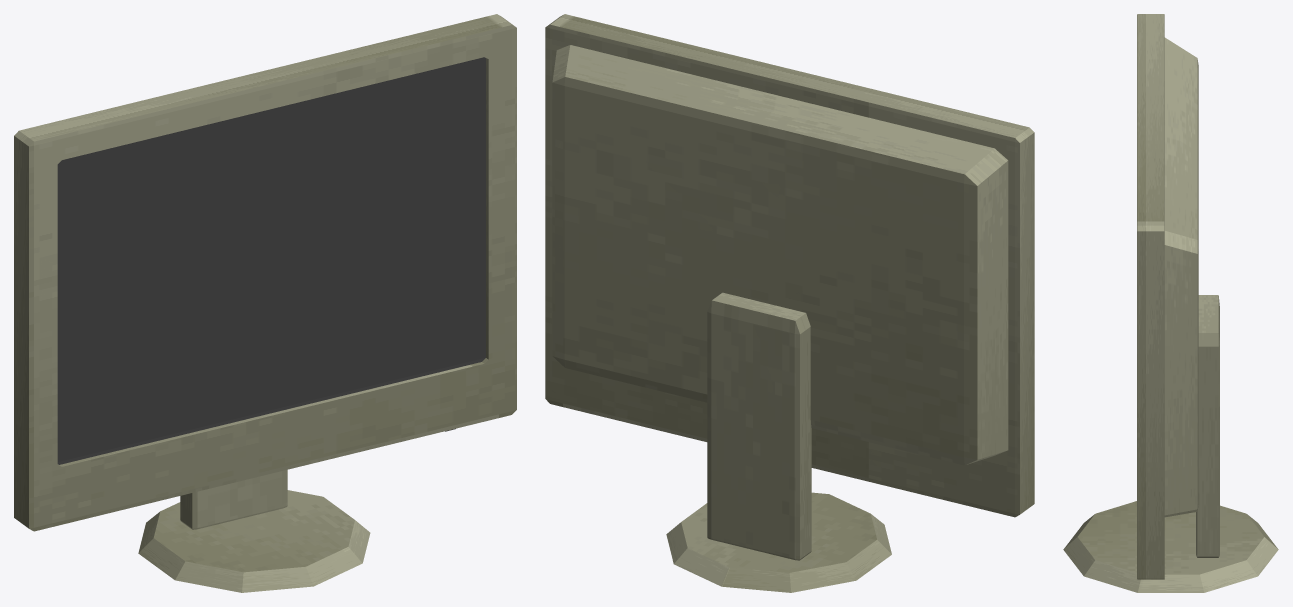
Rendered from Монитор.fbx.
The picture shows the model from 3 angles, left to right: view 1: azimuth 30°, elevation 25°; view 2: azimuth 150°, elevation 25°; view 3: azimuth 270°, elevation 25°; orthographic projection. The views are drawn at different scales.
Visible parts, largest first — view 1: Cube.001; view 2: Cube.001; view 3: Cube.001.
Boxes of the visible parts, x1=… form: Cube.001: x1=14, y1=14, x2=516, y2=592; Cube.001: x1=545, y1=14, x2=1034, y2=592; Cube.001: x1=1063, y1=14, x2=1278, y2=592.
Bounding box in the file's own units: 590 × 548 × 249.
